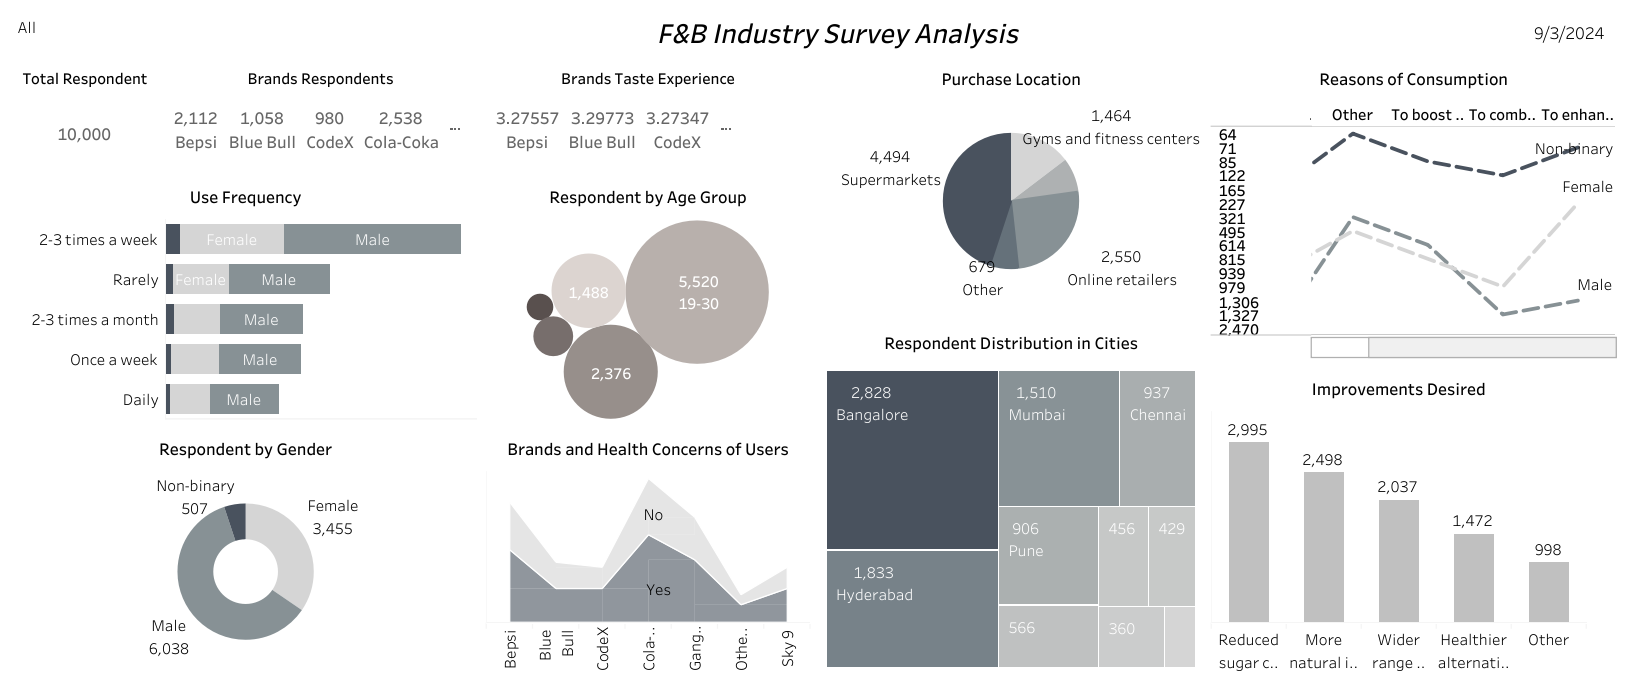

Layout of this report page (visuals, bound fields, positions):
{"tool":"tableau","page":{"name":"F&B Industry Survey Analysis","canvas":[1000,1000],"units":"permille","ordinal":0},"visuals":[{"type":"filter","title":"Brands Respondents","param":"[federated.06mqc9e1tm9kdx15svuzg0yl9tu9].[none:Current_brands:nk]","box":[6.1,14.6,91.9,63.6]},{"type":"text","box":[98,14.6,833.2,63.6]},{"type":"worksheet","title":"Date","mark":"Automatic","box":[931.2,14.6,62.6,63.6]},{"type":"worksheet","title":"Total Respondent","mark":"Automatic","box":[6.1,78.1,91.9,170.9]},{"type":"worksheet","title":"Brands Respondents","mark":"Automatic","box":[98,78.1,196.9,170.9]},{"type":"worksheet","title":"Brands Taste Experience","mark":"Automatic","box":[295,78.1,205,170.9]},{"type":"worksheet","title":"Purchase Location","mark":"Pie","box":[500,78.1,239.4,367.3]},{"type":"worksheet","title":"Reasons of Consumption","mark":"Line","rows":["Respondent_ID"],"cols":["Consume_reason"],"box":[739.4,78.1,254.5,450.9]},{"type":"worksheet","title":"Use Frequency","mark":"Automatic","rows":["Consume_frequency"],"cols":["Respondent_ID"],"box":[6.1,249,288.8,368.2]},{"type":"worksheet","title":"Respondent by Age Group","mark":"Circle","box":[295,249,205,368.2]},{"type":"worksheet","title":"Respondent Distribution in Cities","mark":"Automatic","box":[500,461.8,239.4,523.7]},{"type":"worksheet","title":"Improvements Desired","mark":"Automatic","rows":["Respondent_ID"],"cols":["Improvements_desired"],"box":[739.4,529,254.5,456.4]},{"type":"worksheet","title":"Respondent by Gender","mark":"Pie","rows":["Calculation_14777493557674087","Calculation_14777493557674087"],"box":[6.1,617.2,288.8,368.2]},{"type":"worksheet","title":"Brands and Health Concerns of Users","mark":"Area","rows":["Respondent_ID"],"cols":["Current_brands"],"box":[295,617.2,205,368.2]}]}

Visuals, with their boxes on the dashboard's canvas, which has no fixed pixel size, in thousandths of its width and height (x1, y1, x2, y2). These are canvas units, not pixel positions in the 1630x686 screenshot, which may show the page scaled, cropped or inside an application window:
"Brands Respondents" filter: crop(6, 15, 98, 78)
text: crop(98, 15, 931, 78)
"Date" worksheet: crop(931, 15, 994, 78)
"Total Respondent" worksheet: crop(6, 78, 98, 249)
"Brands Respondents" worksheet: crop(98, 78, 295, 249)
"Brands Taste Experience" worksheet: crop(295, 78, 500, 249)
"Purchase Location" worksheet (Pie marks): crop(500, 78, 739, 445)
"Reasons of Consumption" worksheet (Line marks): crop(739, 78, 994, 529)
"Use Frequency" worksheet: crop(6, 249, 295, 617)
"Respondent by Age Group" worksheet (Circle marks): crop(295, 249, 500, 617)
"Respondent Distribution in Cities" worksheet: crop(500, 462, 739, 986)
"Improvements Desired" worksheet: crop(739, 529, 994, 985)
"Respondent by Gender" worksheet (Pie marks): crop(6, 617, 295, 985)
"Brands and Health Concerns of Users" worksheet (Area marks): crop(295, 617, 500, 985)
